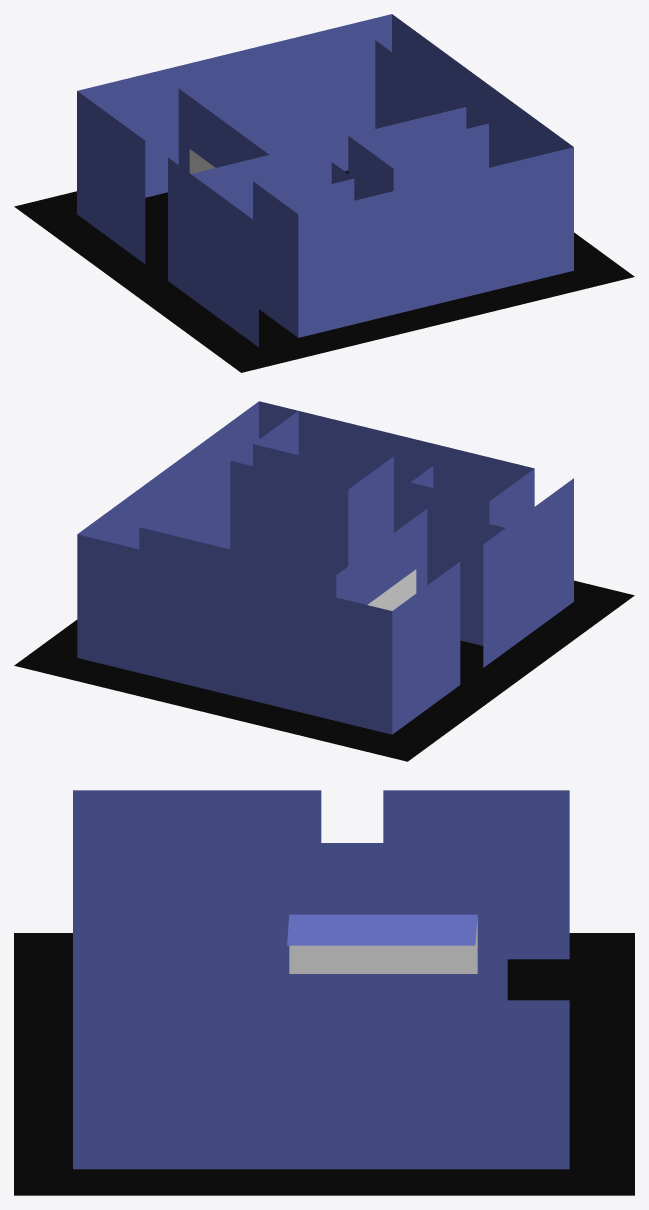
Rendered from Test Level 2.glb.
3 renders of one model, top to bottom at view 1: azimuth 30°, elevation 25°; view 2: azimuth 150°, elevation 25°; view 3: azimuth 270°, elevation 25°, orthographic. The views are drawn at different scales.
Parts seen in each view (by area): view 1: Maze2_col; view 2: Maze2_col, Maze2_col.001; view 3: Maze2_col, Maze2_col.001.
Part boxes in pixels (x1,y1,x2,y2): Maze2_col: (14,14,634,372); Maze2_col: (14,401,634,761); Maze2_col.001: (367,569,416,610); Maze2_col: (14,790,634,1195); Maze2_col.001: (289,917,477,973).
Bounding box in the file's own units: 20 × 6 × 20.
